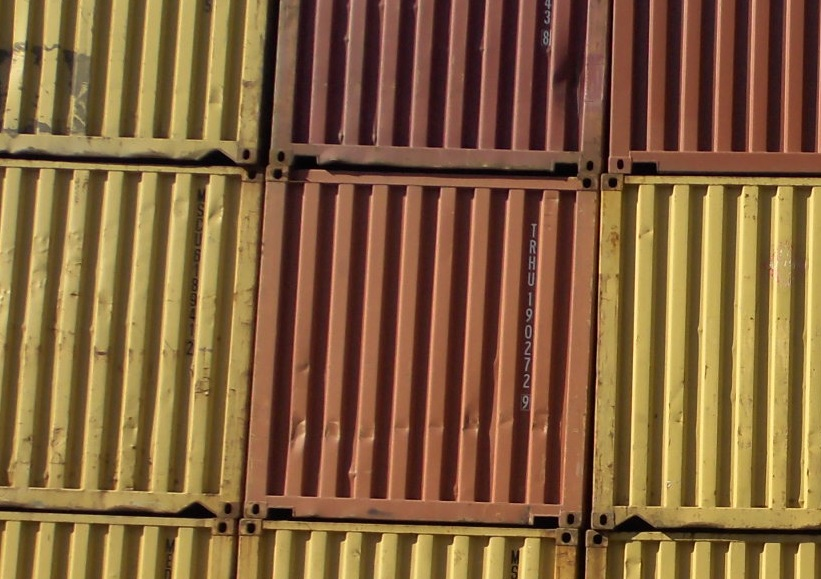container_no_door: (244, 156, 591, 522), (585, 168, 820, 534), (3, 153, 238, 517), (267, 1, 614, 165), (1, 1, 269, 160), (604, 1, 821, 171)
